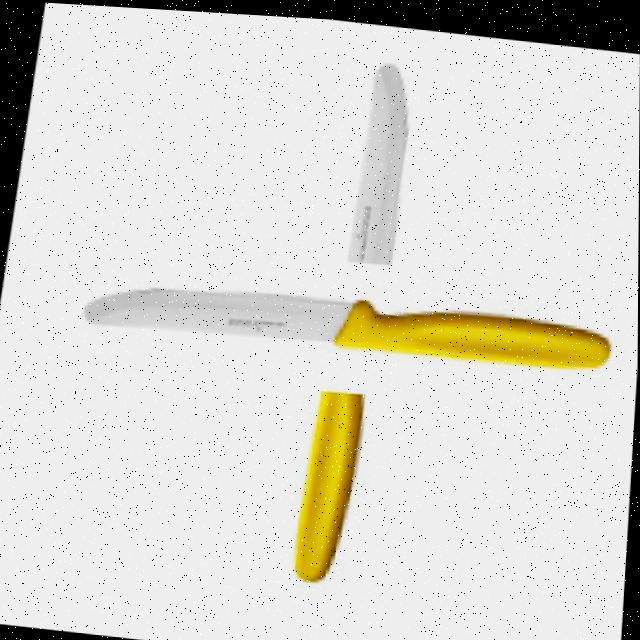knife: (287, 51, 417, 590), (78, 265, 612, 379)
